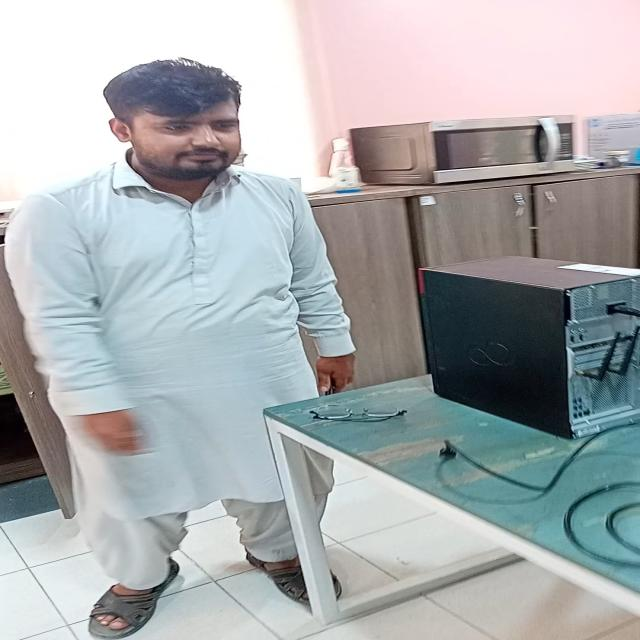dress: (7, 150, 357, 562)
